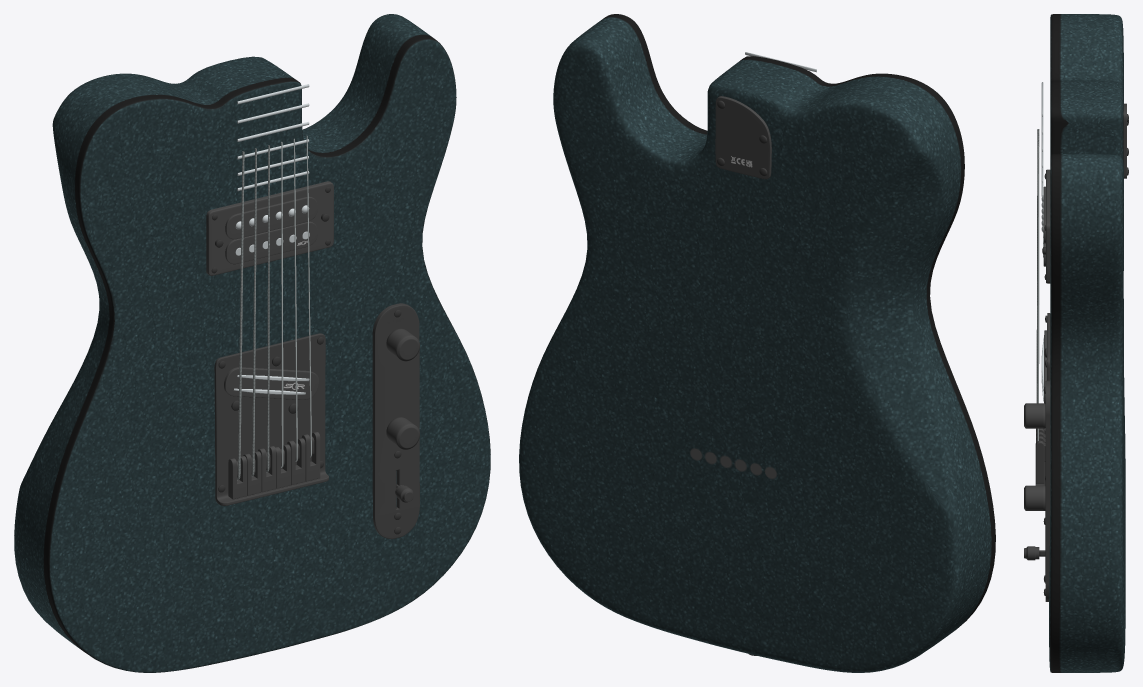
File: t-style-body.glb
3 views of the same model, side by side, from view 1: azimuth 30°, elevation 25°; view 2: azimuth 150°, elevation 25°; view 3: azimuth 270°, elevation 25° (orthographic). The views are drawn at different scales.
Visible parts, largest first — view 1: t-style-body; view 2: t-style-body; view 3: t-style-body.
Boxes of the visible parts, x1,y1,x2,y2 form: t-style-body: (14,14,490,672); t-style-body: (519,14,995,672); t-style-body: (1024,14,1128,672).
Bounding box in the file's own units: 0.3308 × 0.4244 × 0.0729.
Materials: 2 (2 with a texture image).
